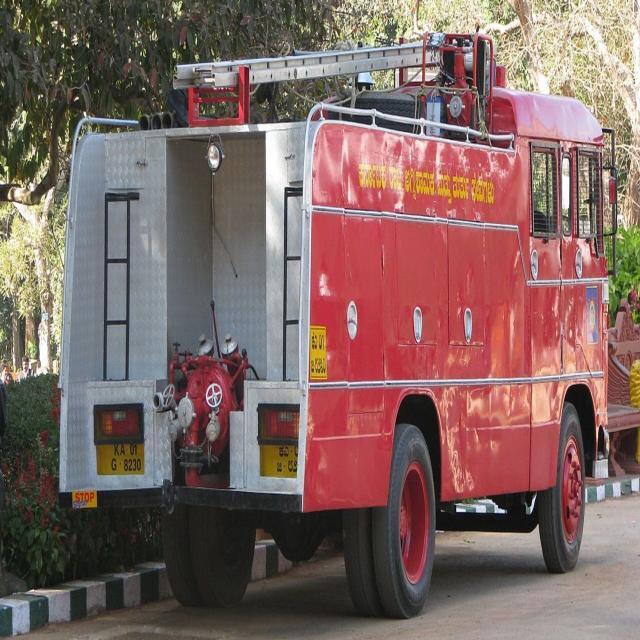Fire Truck: (63, 27, 636, 603)
